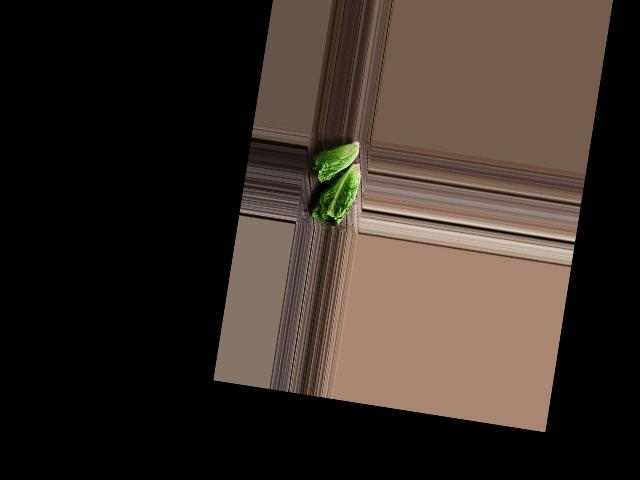lettuce: (305, 131, 362, 189)
